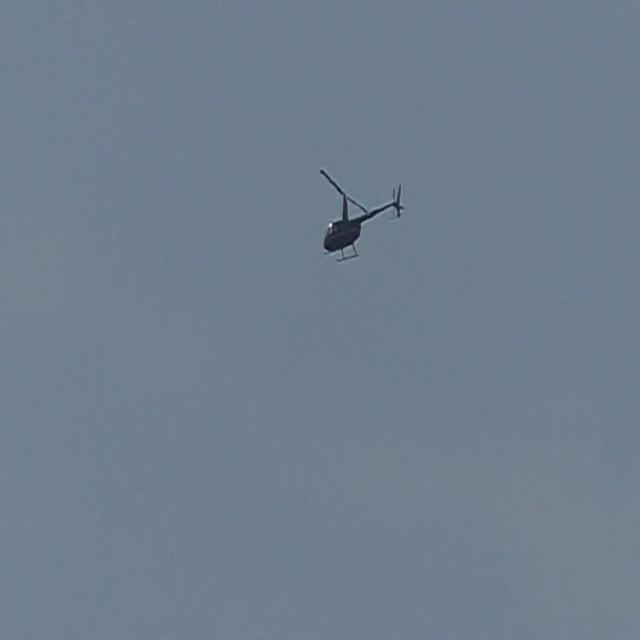CIV_HELO: (322, 179, 406, 265)
